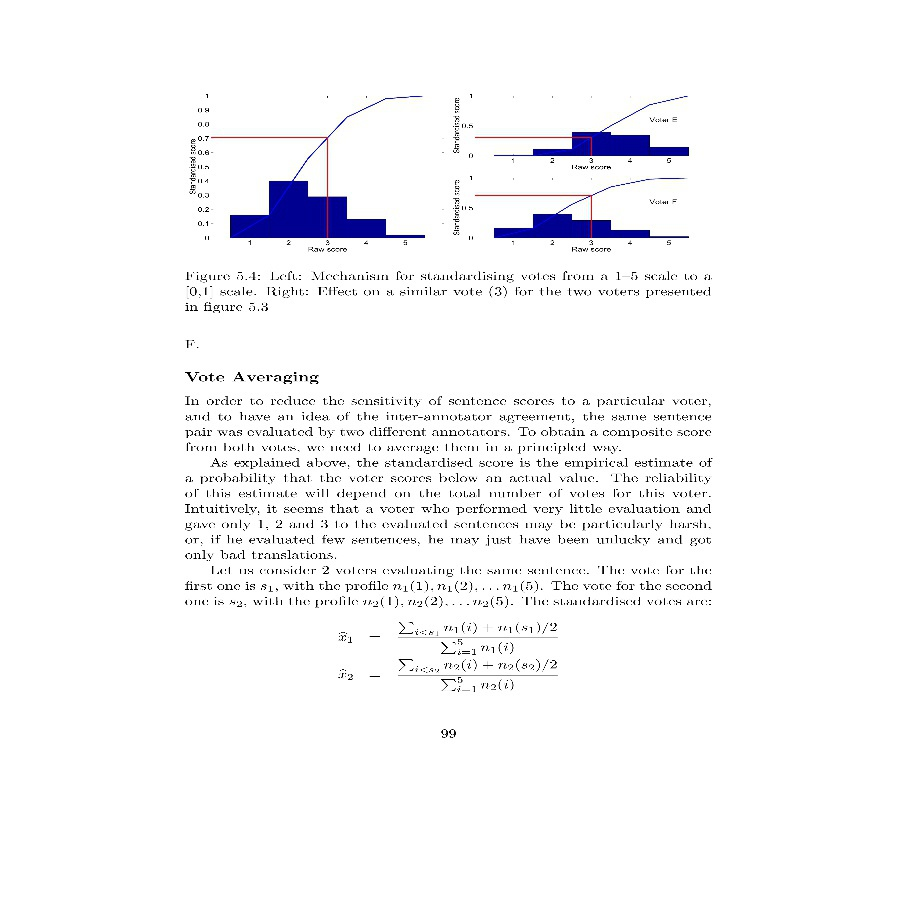eq: (332, 615, 560, 657), (333, 657, 564, 689)
